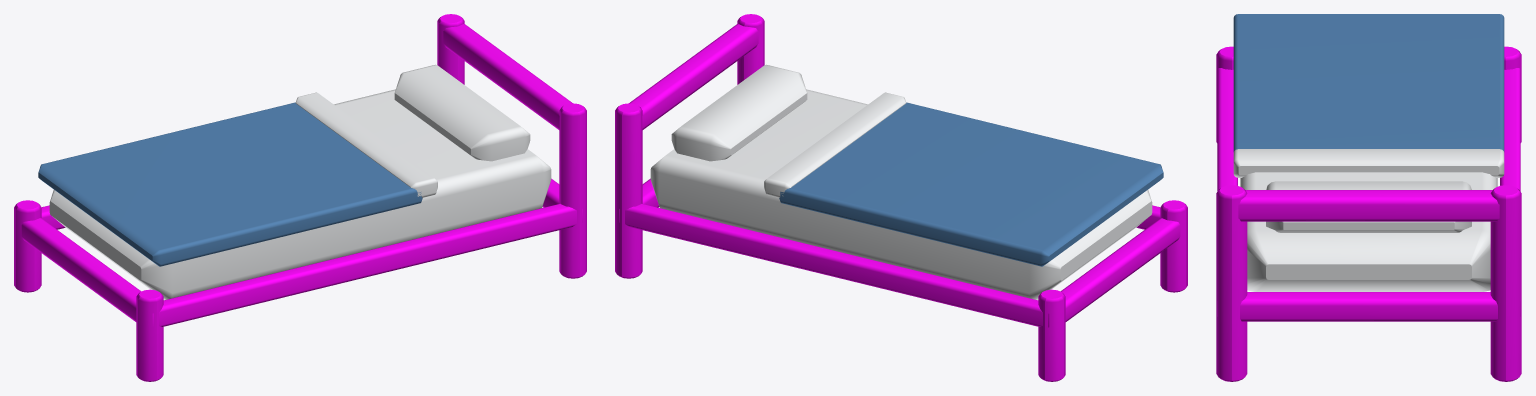
Rendered from objet_lit.glb.
3 renders of one model, left to right at view 1: azimuth 30°, elevation 25°; view 2: azimuth 150°, elevation 25°; view 3: azimuth 270°, elevation 25°, orthographic. The views are drawn at different scales.
Parts seen in each view (by area): view 1: lit_couverture.002, lit_drap.002, lit_teinte.002; view 2: lit_couverture.002, lit_drap.002, lit_teinte.002; view 3: lit_couverture.002, lit_teinte.002, lit_drap.002.
Boxes of the visible parts, x1=… form: lit_couverture.002: x1=38, y1=102, x2=422, y2=266; lit_drap.002: x1=49, y1=64, x2=551, y2=299; lit_teinte.002: x1=14, y1=14, x2=586, y2=381; lit_couverture.002: x1=779, y1=102, x2=1163, y2=266; lit_drap.002: x1=650, y1=64, x2=1152, y2=299; lit_teinte.002: x1=615, y1=14, x2=1187, y2=381; lit_couverture.002: x1=1233, y1=14, x2=1504, y2=151; lit_teinte.002: x1=1216, y1=46, x2=1521, y2=381; lit_drap.002: x1=1233, y1=149, x2=1504, y2=291.
Bounding box in the file's own units: 0.338 × 0.12 × 0.178.
